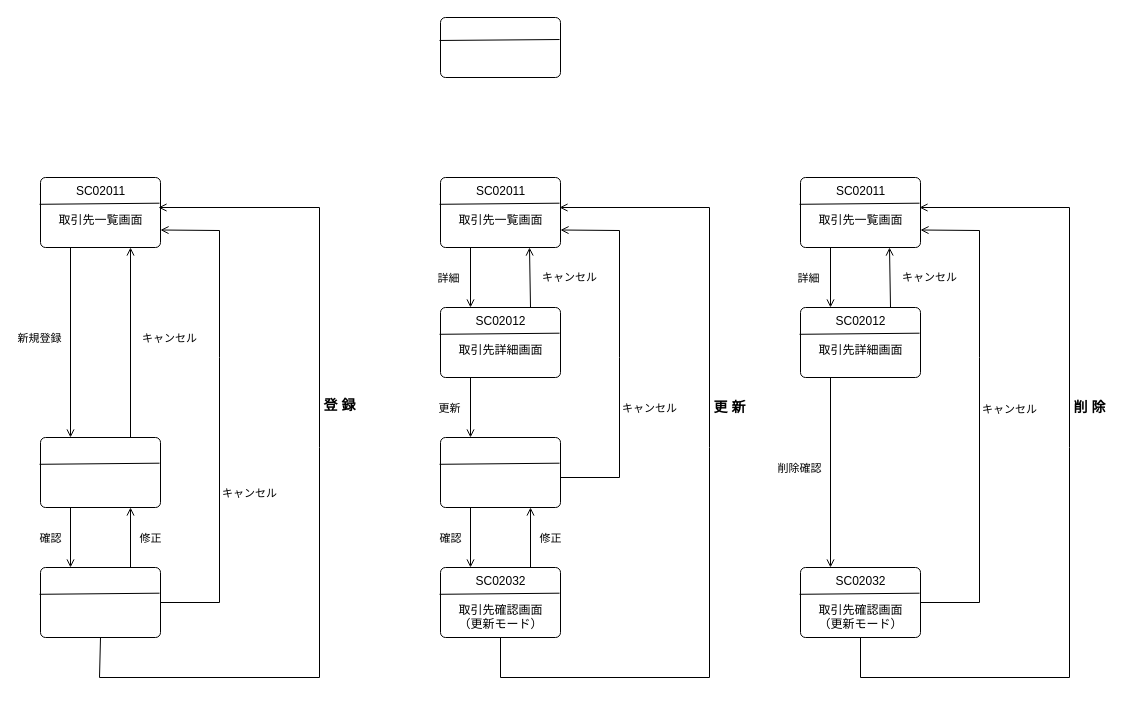
Some shapes in this 1122 by 703 pixel diagram are drawn without their labels. Each missing label, with the centre of its shape:
"SC01001 ログイン画面" belongs at [500,47].
"SC02021 取引先入力画面 （登録モード）" belongs at [100,472].
"SC02022 取引先入力画面 （更新モード）" belongs at [500,472].
"SC02031 取引先確認画面 （登録モード）" belongs at [100,602].
